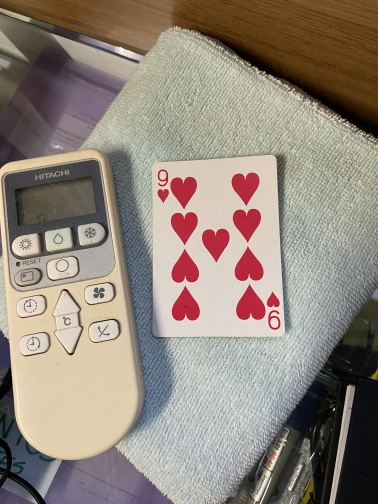nine: (150, 154, 285, 339)
